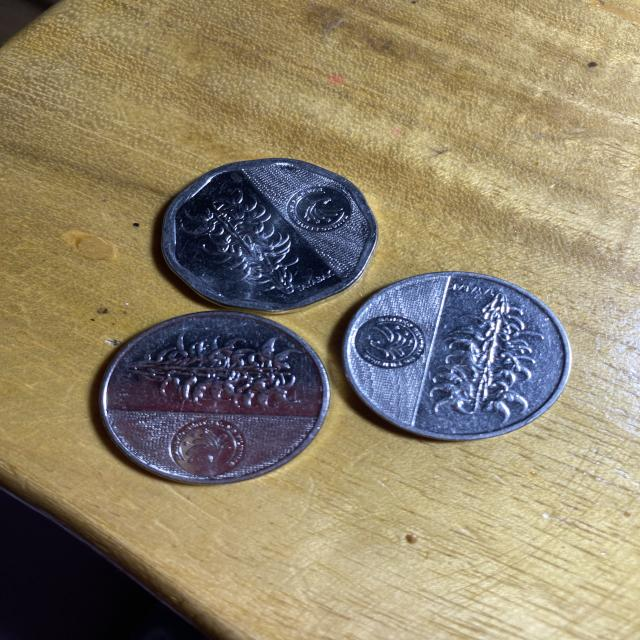5_New_Back: (122, 332, 294, 412), (434, 290, 534, 423), (184, 192, 297, 289)
